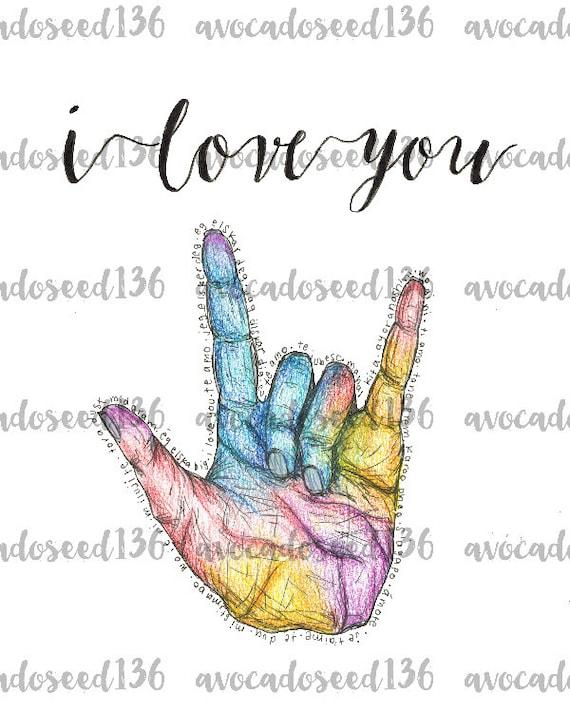Love_you: (99, 219, 433, 647)
